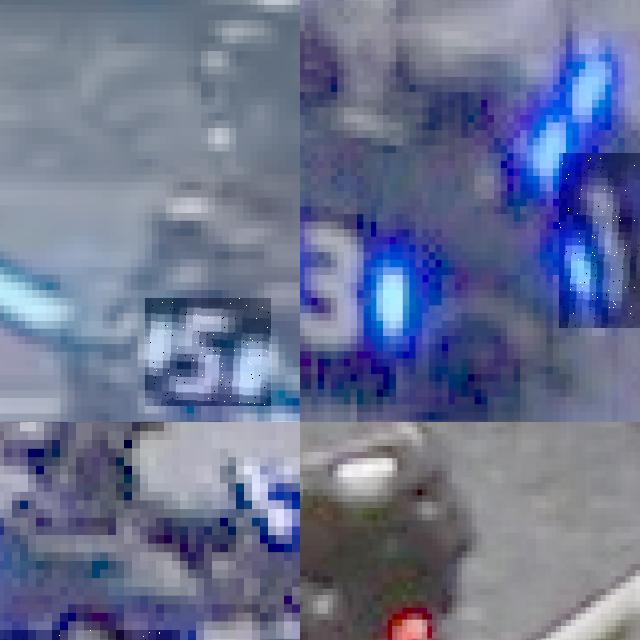B3: (300, 202, 416, 370), (559, 153, 640, 328)
B5: (145, 298, 271, 406)
